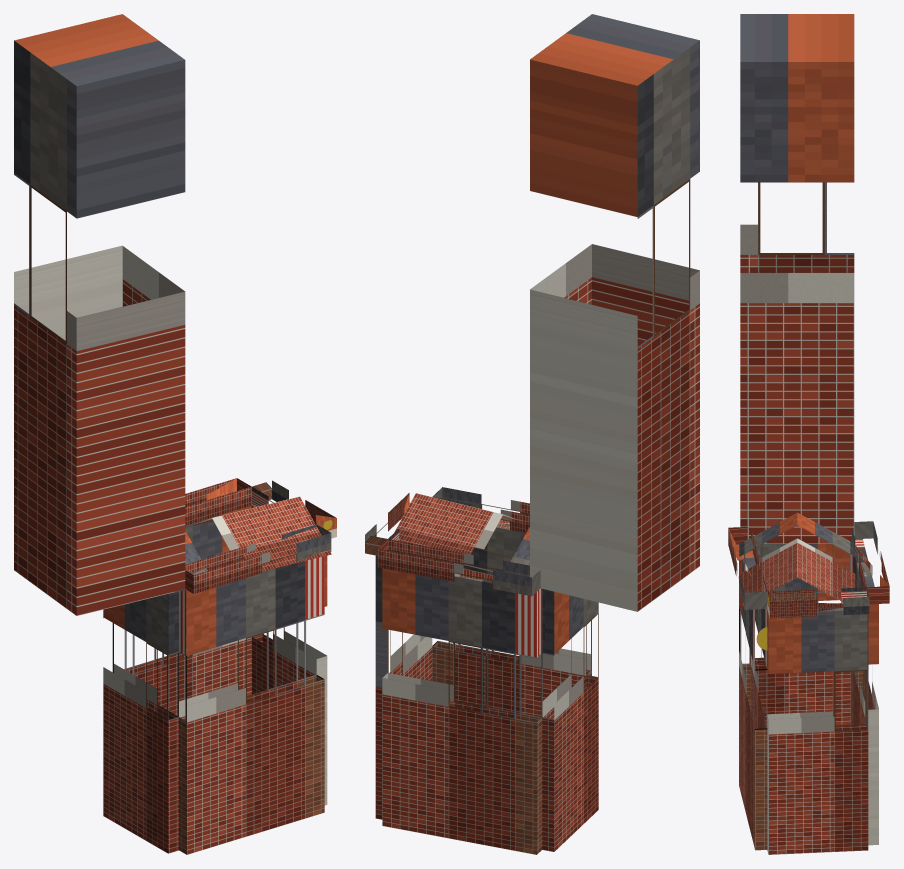
The picture shows the model from 3 angles, left to right: view 1: azimuth 30°, elevation 25°; view 2: azimuth 150°, elevation 25°; view 3: azimuth 270°, elevation 25°; orthographic projection. The views are drawn at different scales.
Parts seen in each view (by area): view 1: 734333592__chimney_0_xb, 734333592__wall_3_xb, 734333592__wall_0_xb, 734333592__wall_1_xb, 734333592_roof_-1_xb, 734333592__wall_2_xb, 734333592__cornice_3, 734333592__cornice_1, 734333592__cornice_2; view 2: 734333592__chimney_0_xb, 734333592__wall_1_xb, 734333592__wall_0_xb, 734333592__wall_3_xb, 734333592_roof_1_xb, 734333592__cornice_1, 734333592__wall_2_xb, 734333592__cornice_3, 734333592__cornice_2; view 3: 734333592__chimney_0_xb, 734333592__wall_2_xb, 734333592__wall_3_xb, 734333592__wall_0_xb, 734333592__wall_1_xb, 734333592_roof_1_xb, 734333592_roof_-1_xb, 734333592__cornice_2, 734333592__cornice_1, 734333592__cornice_3.
Boxes of the visible parts, <box> form: 734333592__chimney_0_xb: <box>14,14,185,615</box>; 734333592__wall_3_xb: <box>179,556,324,854</box>; 734333592__wall_0_xb: <box>103,592,178,853</box>; 734333592__wall_1_xb: <box>112,505,251,715</box>; 734333592_roof_-1_xb: <box>175,496,331,592</box>; 734333592__wall_2_xb: <box>251,504,327,805</box>; 734333592__cornice_3: <box>185,524,331,593</box>; 734333592__cornice_1: <box>185,478,251,525</box>; 734333592__cornice_2: <box>251,480,336,538</box>; 734333592__chimney_0_xb: <box>530,14,699,611</box>; 734333592__wall_1_xb: <box>382,568,542,854</box>; 734333592__wall_0_xb: <box>542,589,598,851</box>; 734333592__wall_3_xb: <box>432,523,591,716</box>; 734333592_roof_1_xb: <box>394,493,529,571</box>; 734333592__cornice_1: <box>377,539,540,596</box>; 734333592__wall_2_xb: <box>375,555,432,819</box>; 734333592__cornice_3: <box>432,487,529,532</box>; 734333592__cornice_2: <box>365,493,410,555</box>; 734333592__chimney_0_xb: <box>740,14,854,543</box>; 734333592__wall_2_xb: <box>767,608,868,854</box>; 734333592__wall_3_xb: <box>739,544,767,850</box>; 734333592__wall_0_xb: <box>749,544,850,727</box>; 734333592__wall_1_xb: <box>850,539,878,845</box>; 734333592_roof_1_xb: <box>797,512,855,601</box>; 734333592_roof_-1_xb: <box>739,513,797,608</box>; 734333592__cornice_2: <box>767,587,869,618</box>; 734333592__cornice_1: <box>852,521,889,604</box>; 734333592__cornice_3: <box>728,527,767,609</box>.
Size of the model in its own units: 0.3819 by 1.05 by 0.2124.
1 material, 1 textured.
